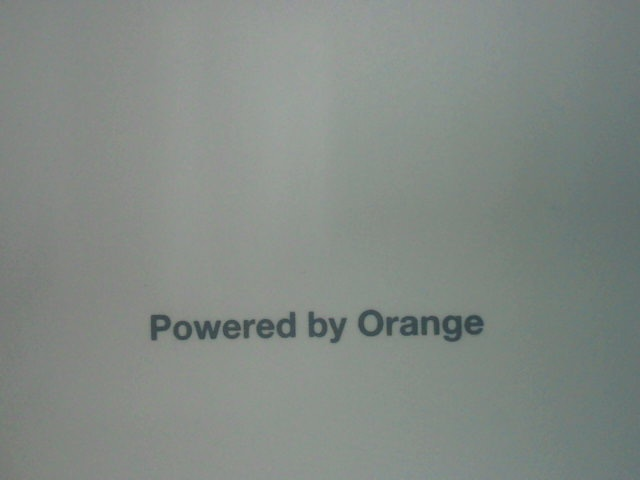AS_PowerByOrange: (137, 293, 499, 365)
